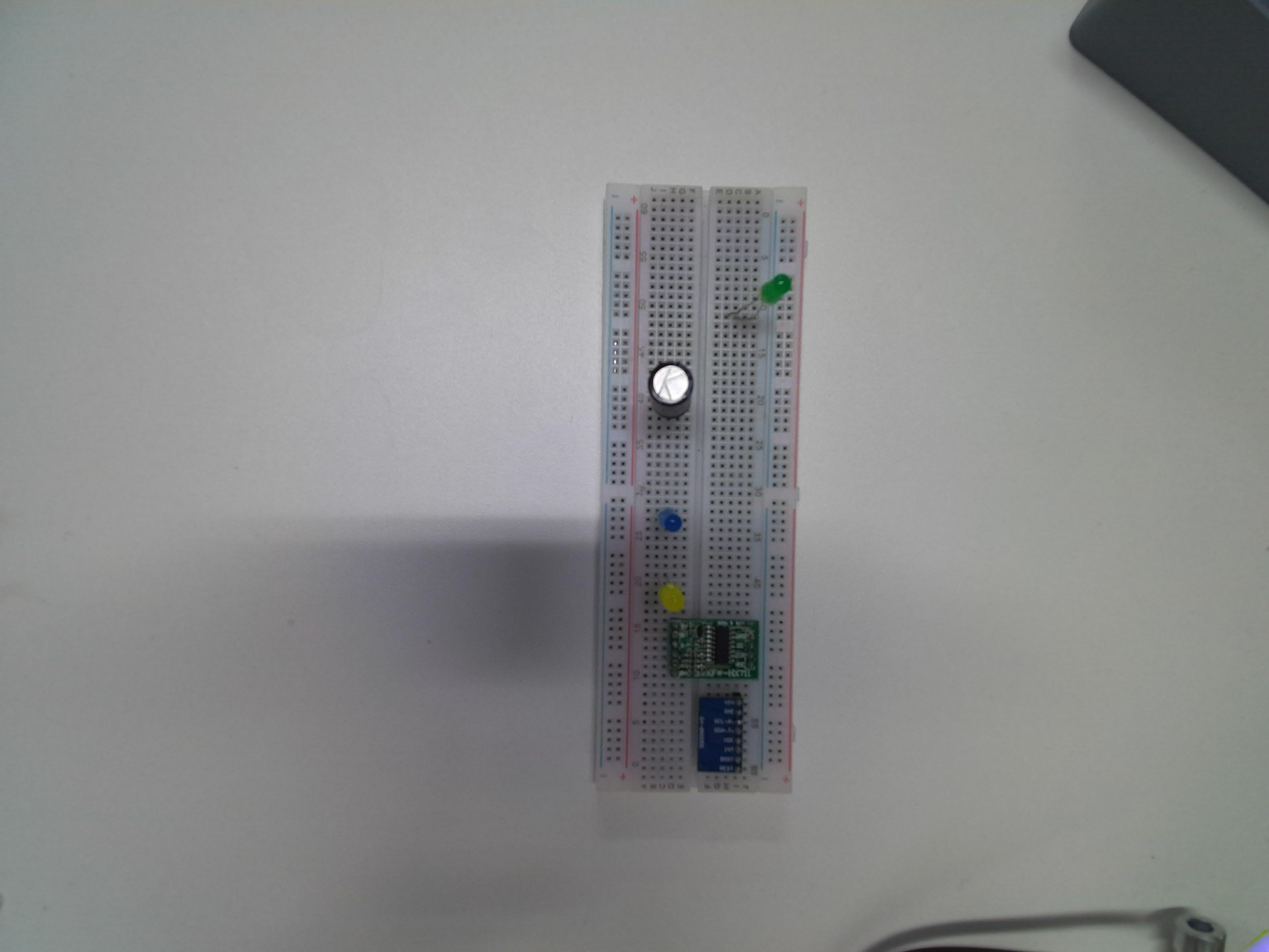base: (593, 180, 810, 802)
blue-board: (691, 690, 748, 777)
blue-led: (658, 509, 684, 535)
capacitor: (651, 361, 692, 409)
green-board: (665, 614, 762, 682)
green-led: (754, 268, 794, 308)
yellow-led: (657, 580, 686, 614)
